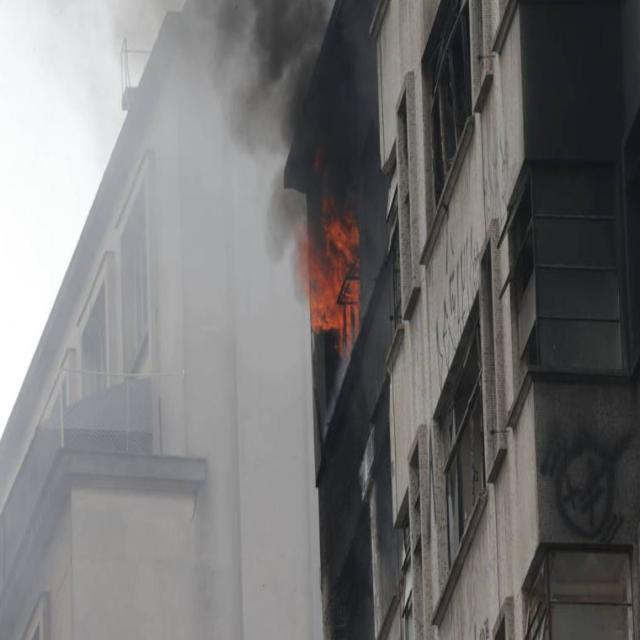Fire: (302, 193, 364, 356)
Smoke: (232, 66, 295, 160), (207, 3, 246, 101), (262, 174, 301, 264)
